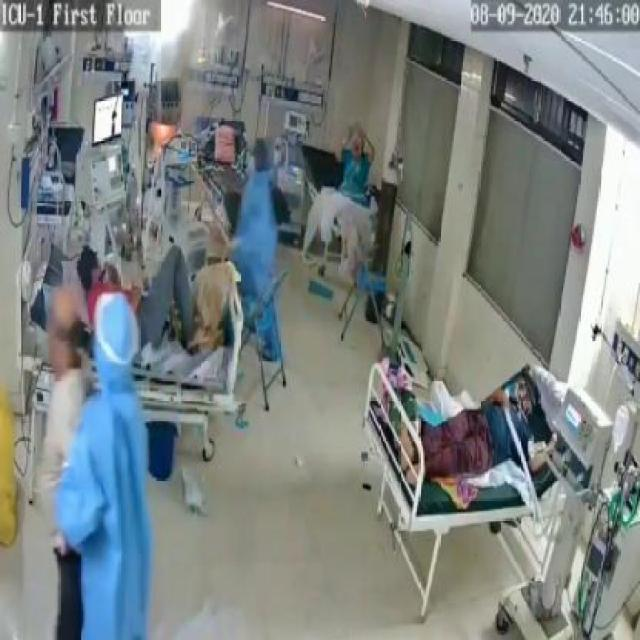fire: (147, 122, 176, 164)
smoke: (123, 33, 202, 79)
